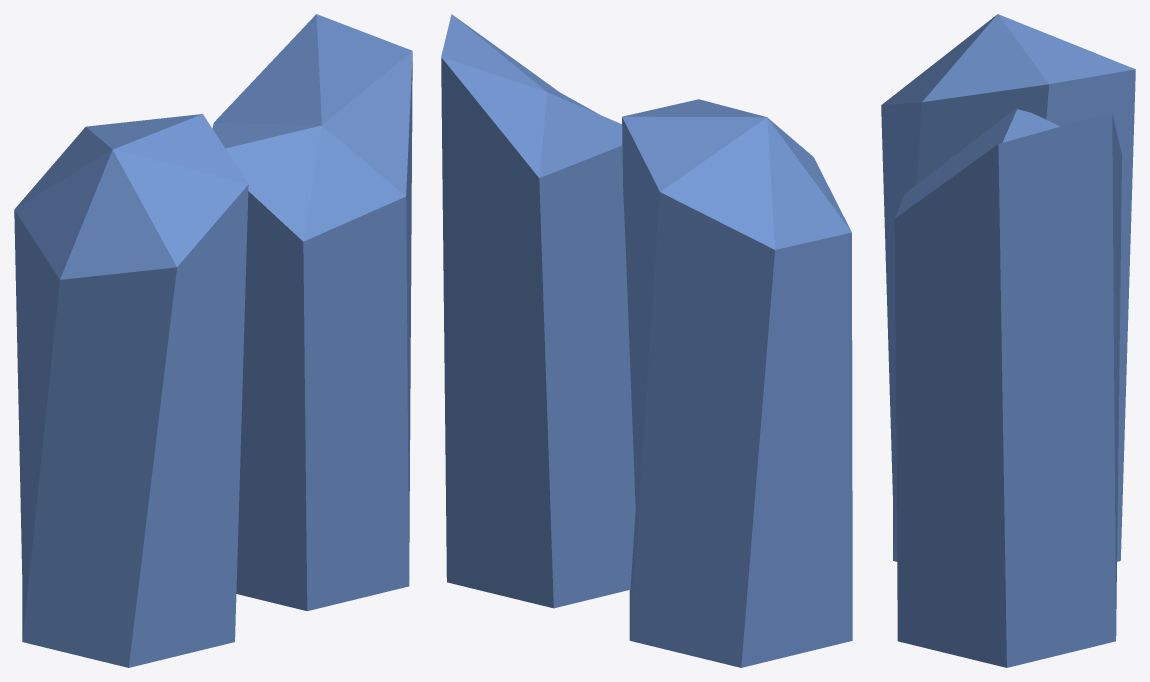
The model's file is Crystals22.FBX.
The picture shows the model from 3 angles, left to right: view 1: azimuth 30°, elevation 25°; view 2: azimuth 150°, elevation 25°; view 3: azimuth 270°, elevation 25°; orthographic projection. The views are drawn at different scales.
Visible parts, largest first — view 1: out22; view 2: out22; view 3: out22.
Part boxes in pixels (x1,y1,x2,y2): out22: [14, 14, 412, 667]; out22: [441, 14, 852, 667]; out22: [881, 14, 1135, 667].
Size of the model in its own units: 67.29 by 84.54 by 35.83.
